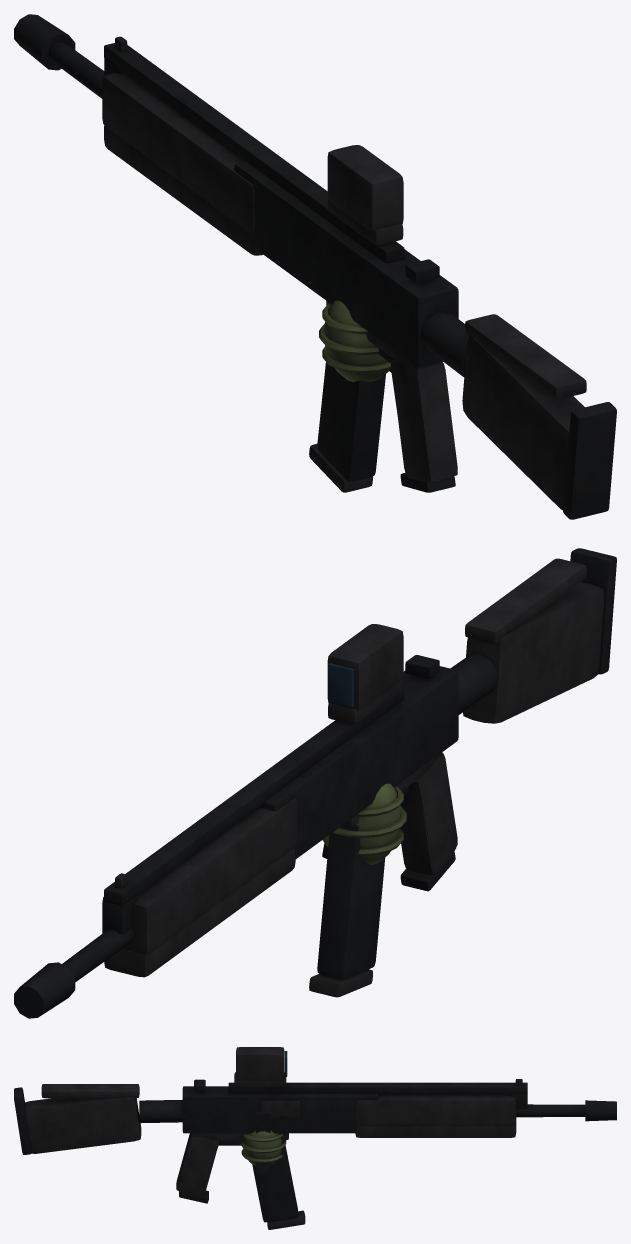
File: armas.glb
3 views of the same model, one above another, from view 1: azimuth 30°, elevation 25°; view 2: azimuth 150°, elevation 25°; view 3: azimuth 270°, elevation 25° (orthographic). The views are drawn at different scales.
Parts seen in each view (by area): view 1: fuzil, pistola, granada; view 2: fuzil, pistola, granada; view 3: fuzil, granada, pistola.
Part boxes in pixels (bbox=[...]): fuzil: bbox=[14, 14, 616, 519]; pistola: bbox=[326, 301, 457, 492]; granada: bbox=[319, 300, 391, 382]; fuzil: bbox=[14, 548, 616, 1018]; pistola: bbox=[342, 752, 457, 891]; granada: bbox=[322, 783, 406, 864]; fuzil: bbox=[14, 1047, 616, 1229]; granada: bbox=[240, 1111, 286, 1173]; pistola: bbox=[176, 1133, 288, 1203].
Bounding box in the file's own units: 0.082 × 0.3379 × 1.05.
Materials: 3 (3 with a texture image).
